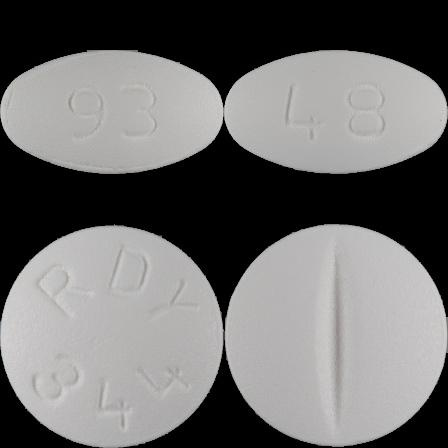66116-378: (0, 0, 224, 224)
